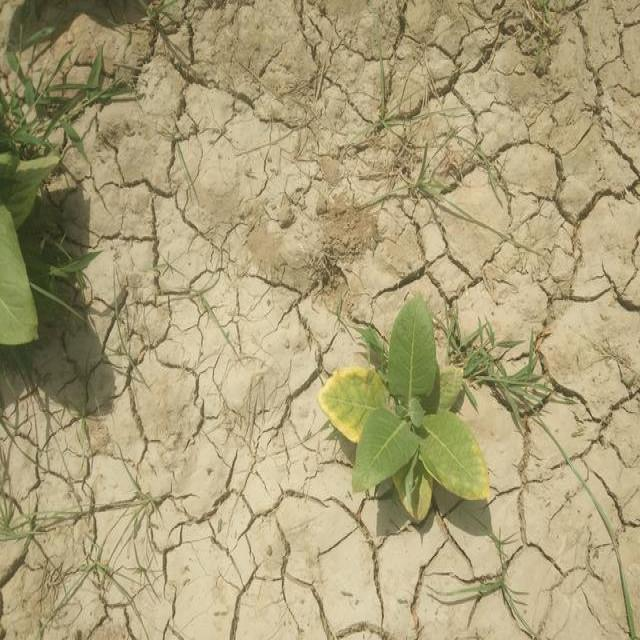crop: (326, 295, 492, 519), (0, 141, 53, 356)
